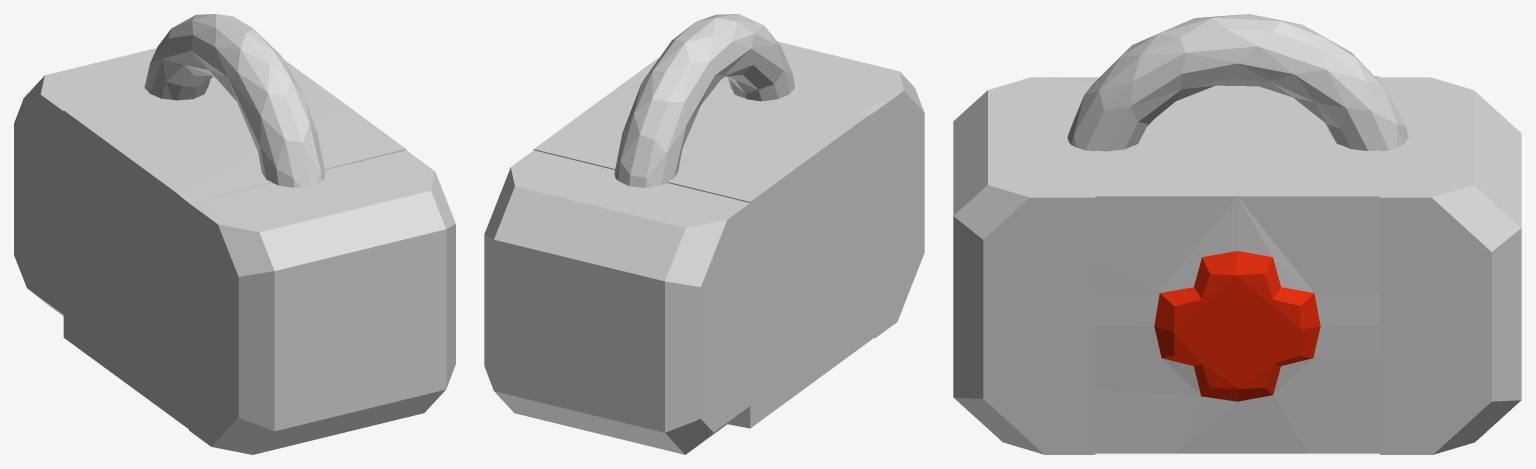
Rendered from Healer Model.fbx.
3 renders of one model, left to right at view 1: azimuth 30°, elevation 25°; view 2: azimuth 150°, elevation 25°; view 3: azimuth 270°, elevation 25°, orthographic. The views are drawn at different scales.
Parts seen in each view (by area): view 1: Cube; view 2: Cube; view 3: Cube.
Boxes of the visible parts, bbox=[...] form: Cube: bbox=[14, 14, 455, 454]; Cube: bbox=[484, 14, 924, 454]; Cube: bbox=[953, 14, 1521, 454].
Bounding box in the file's own units: 212 × 293 × 400.
